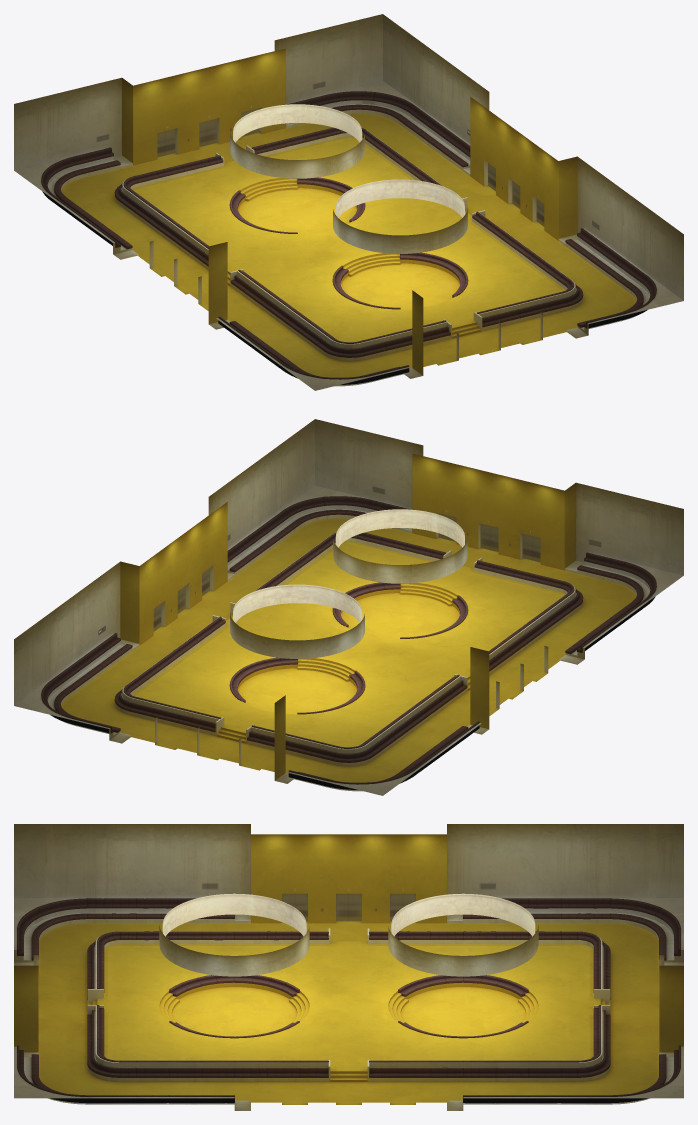
Rendered from liminal.glb.
3 renders of one model, top to bottom at view 1: azimuth 30°, elevation 25°; view 2: azimuth 150°, elevation 25°; view 3: azimuth 270°, elevation 25°, orthographic. The views are drawn at different scales.
Parts seen in each view (by area): view 1: Box001, Object001_14 - Default_0 (×2); view 2: Box001, Object001_14 - Default_0 (×2); view 3: Box001, Object001_14 - Default_0 (×2).
Boxes of the visible parts, <box> form: Box001: <box>14,14,683,390</box>; Object001_14 - Default_0 (×2): <box>41,91,656,384</box>; Box001: <box>14,419,683,795</box>; Object001_14 - Default_0 (×2): <box>41,496,656,789</box>; Box001: <box>14,824,683,1110</box>; Object001_14 - Default_0 (×2): <box>17,898,680,1103</box>.
Size of the model in its own units: 29 by 6.15 by 41.
3 materials, 2 textured.
